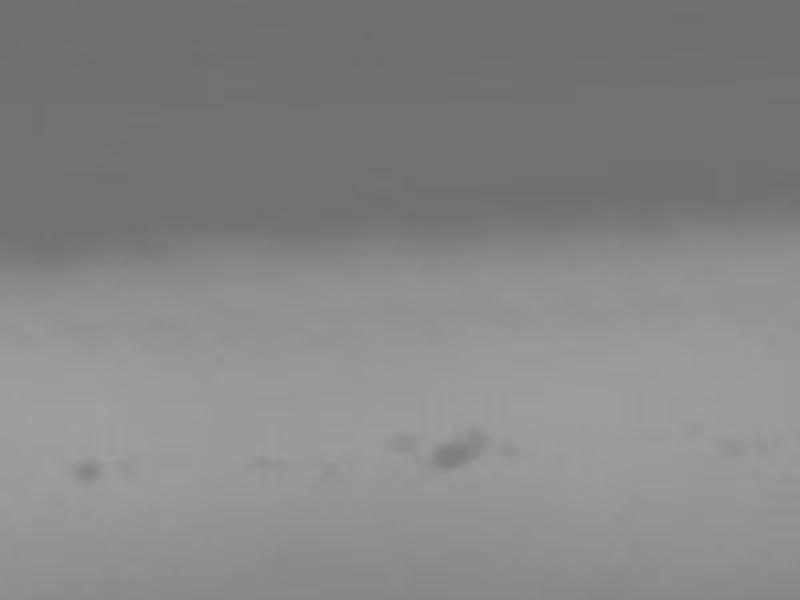defect: (436, 427, 489, 472), (242, 451, 298, 475), (68, 455, 99, 486), (116, 455, 146, 486), (713, 434, 745, 462), (383, 432, 419, 455), (319, 459, 343, 487), (498, 443, 522, 467)
